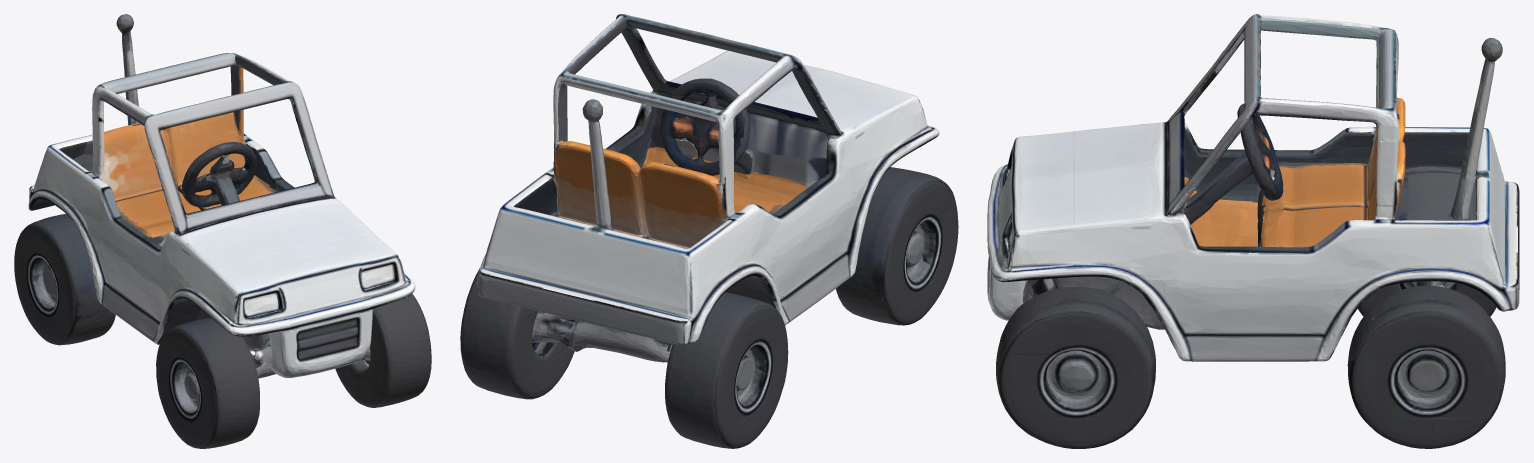
Rendered from hunyuan_moon_buggy_b_textured.glb.
3 views of the same model, side by side, from view 1: azimuth 30°, elevation 25°; view 2: azimuth 150°, elevation 25°; view 3: azimuth 270°, elevation 25° (orthographic). The views are drawn at different scales.
Parts seen in each view (by area): view 1: tmpsr8l4ezy.ply; view 2: tmpsr8l4ezy.ply; view 3: tmpsr8l4ezy.ply.
Part boxes in pixels (x1=…): tmpsr8l4ezy.ply: x1=14, y1=14, x2=431, y2=448; tmpsr8l4ezy.ply: x1=460, y1=14, x2=958, y2=448; tmpsr8l4ezy.ply: x1=987, y1=14, x2=1519, y2=448.
Bounding box in the file's own units: 1.16 × 1.44 × 1.99.
Materials: 1 (1 with a texture image).
